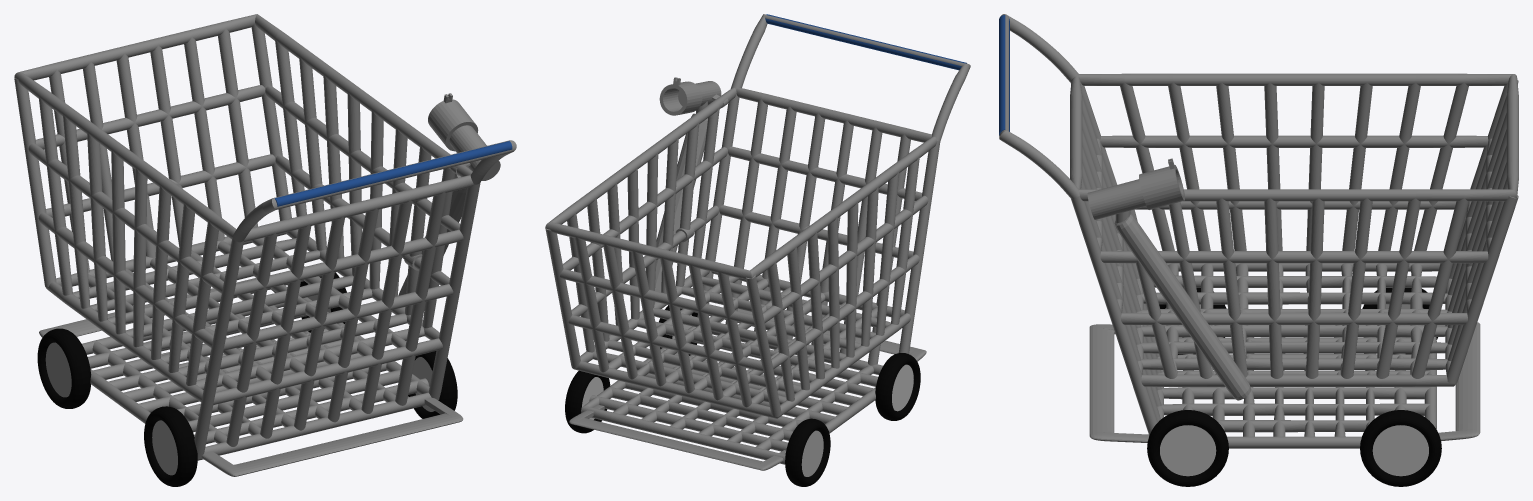
File: Cart.fbx
3 renders of one model, left to right at view 1: azimuth 30°, elevation 25°; view 2: azimuth 150°, elevation 25°; view 3: azimuth 270°, elevation 25°, orthographic. The views are drawn at different scales.
Parts seen in each view (by area): view 1: Cube, Cube.002, Torus, Torus.002, Cylinder, Cylinder.001, Torus.003, Cube.003, Cube.004; view 2: Cube, Torus, Torus.002, Cube.003, Cylinder.001, Torus.004, Cylinder, Cube.004, Cube.002; view 3: Cube, Torus.003, Torus.004, Cube.004, Cube.002, Cylinder.001, Cube.003, Cylinder.
Boxes of the visible parts, x1,y1,x2,y2 form: Cube: (14,14,516,460); Cube.002: (201,397,463,476); Torus: (37,328,91,408); Torus.002: (144,406,197,486); Cylinder: (275,141,512,206); Cylinder.001: (428,93,500,180); Torus.003: (408,351,457,418); Cube.003: (39,278,276,337); Cube.004: (398,174,466,295); Cube: (545,14,970,464); Torus: (785,418,830,486); Torus.002: (875,353,920,420); Cube.003: (569,405,786,470); Cylinder.001: (659,77,728,115); Torus.004: (565,370,610,433); Cylinder: (765,14,966,70); Cube.004: (655,113,707,292); Cube.002: (718,308,926,361); Cube: (999,14,1518,448); Torus.003: (1147,410,1228,486); Torus.004: (1360,410,1441,486); Cube.004: (1114,214,1251,400); Cube.002: (1089,324,1148,442); Cylinder.001: (1087,158,1184,219); Cube.003: (1437,322,1480,441); Cylinder: (999,15,1009,135).
Size of the model in its own units: 249 by 283 by 381.
